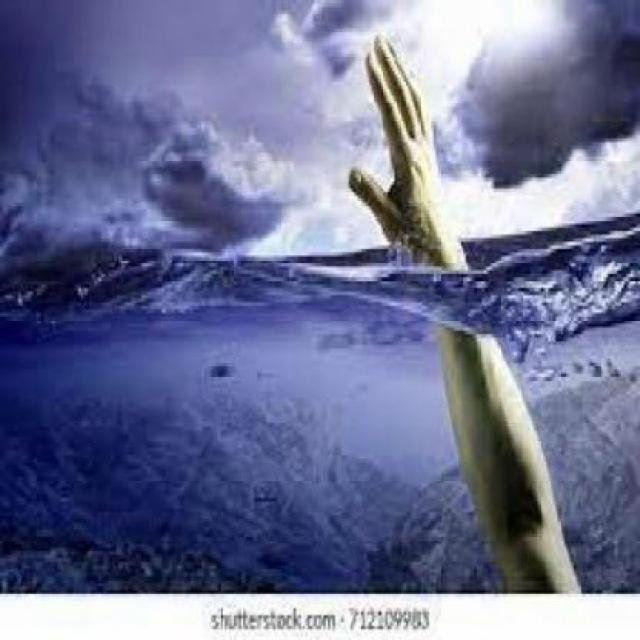drowning: (3, 3, 640, 594)
